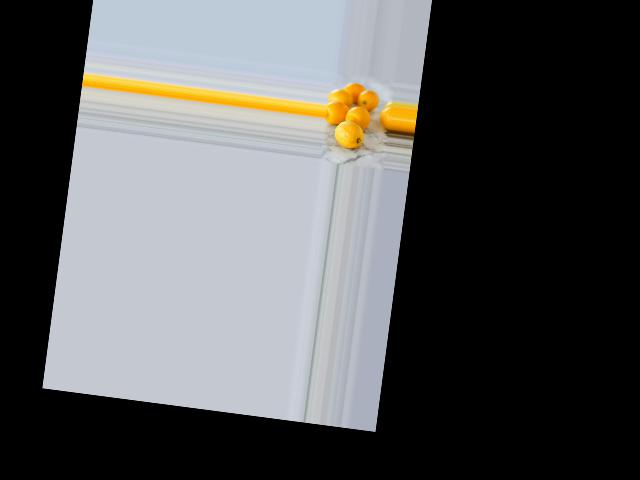lemon: (330, 117, 370, 150)
